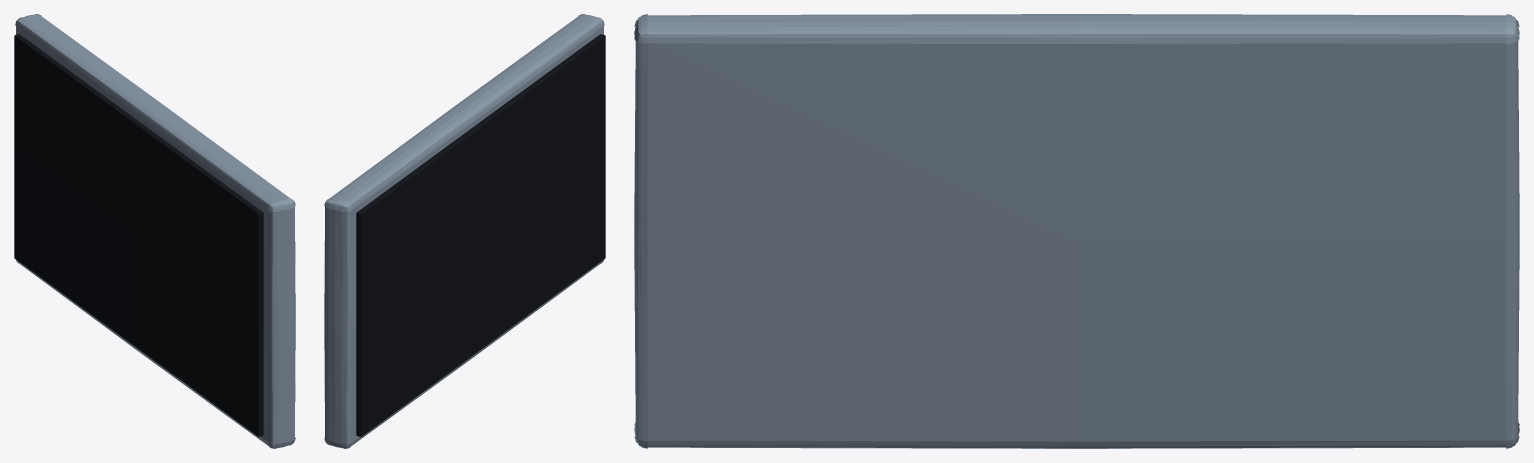
The model's file is 13_PS_Studio_MissionPlanningDisplayHousing.fbx.
3 views of the same model, side by side, from view 1: azimuth 30°, elevation 25°; view 2: azimuth 150°, elevation 25°; view 3: azimuth 270°, elevation 25° (orthographic). The views are drawn at different scales.
Parts seen in each view (by area): view 1: PS_Studio_MissionPlanningDisplayHousing; view 2: PS_Studio_MissionPlanningDisplayHousing; view 3: PS_Studio_MissionPlanningDisplayHousing.
Part boxes in pixels (x1,y1,x2,y2): PS_Studio_MissionPlanningDisplayHousing: [14, 14, 295, 448]; PS_Studio_MissionPlanningDisplayHousing: [324, 14, 605, 448]; PS_Studio_MissionPlanningDisplayHousing: [634, 14, 1519, 448].
Size of the model in its own units: 44 by 315 by 600.
